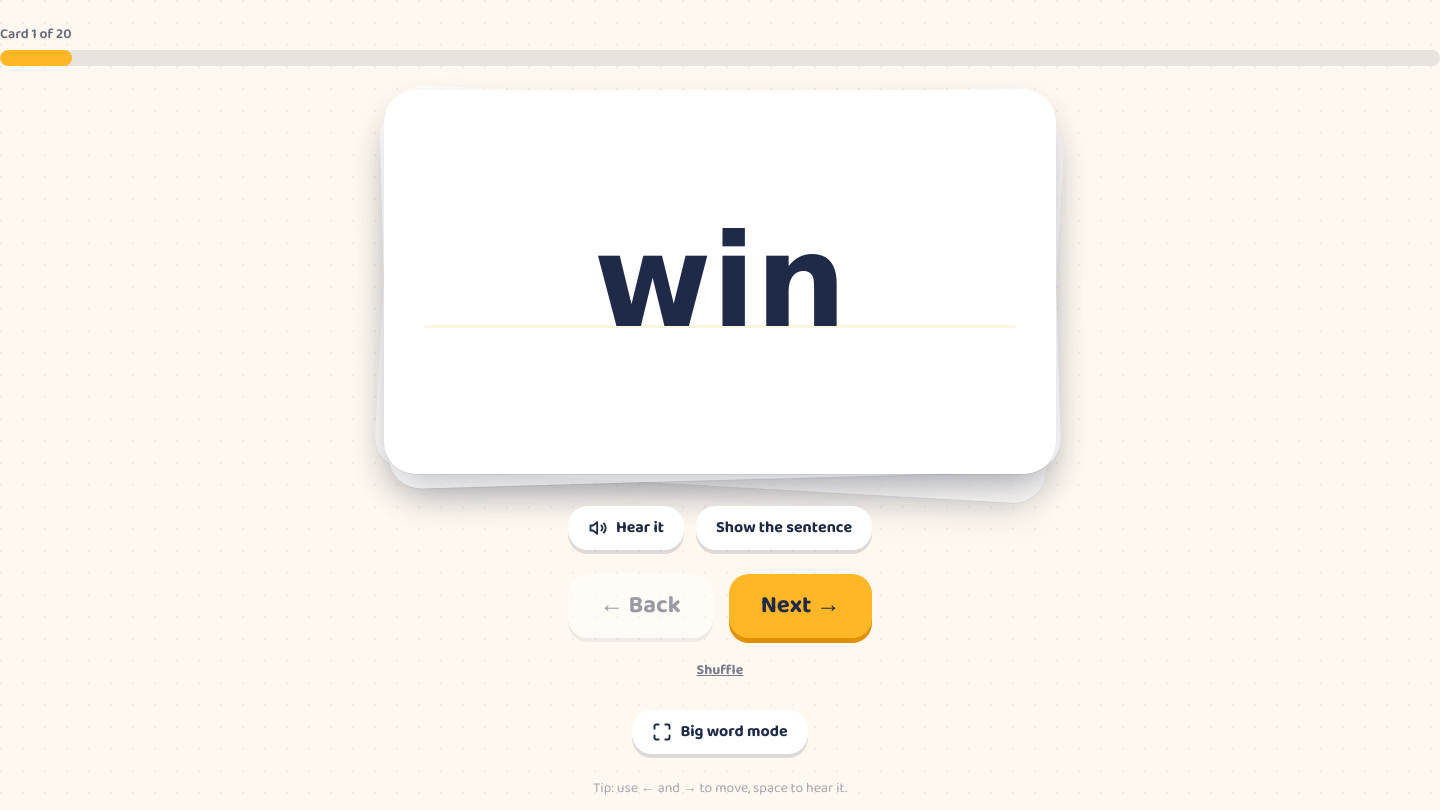
focus mode › goes back on a left-to-right swipe
Click the button "Big word mode" at (720, 732), box [632, 710, 808, 754]
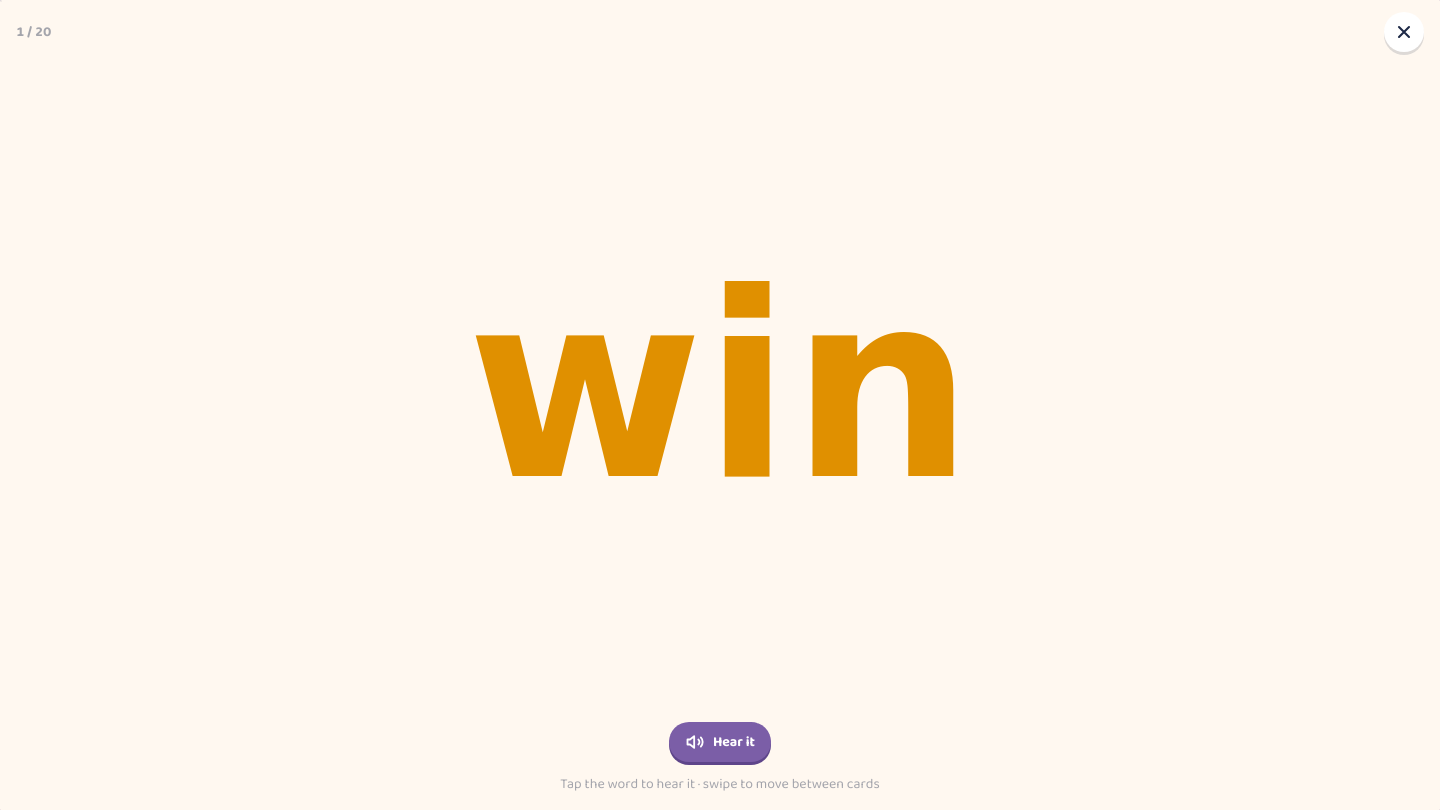
Press the mouse on the dialog at (720, 405), box [0, 0, 1439, 809]
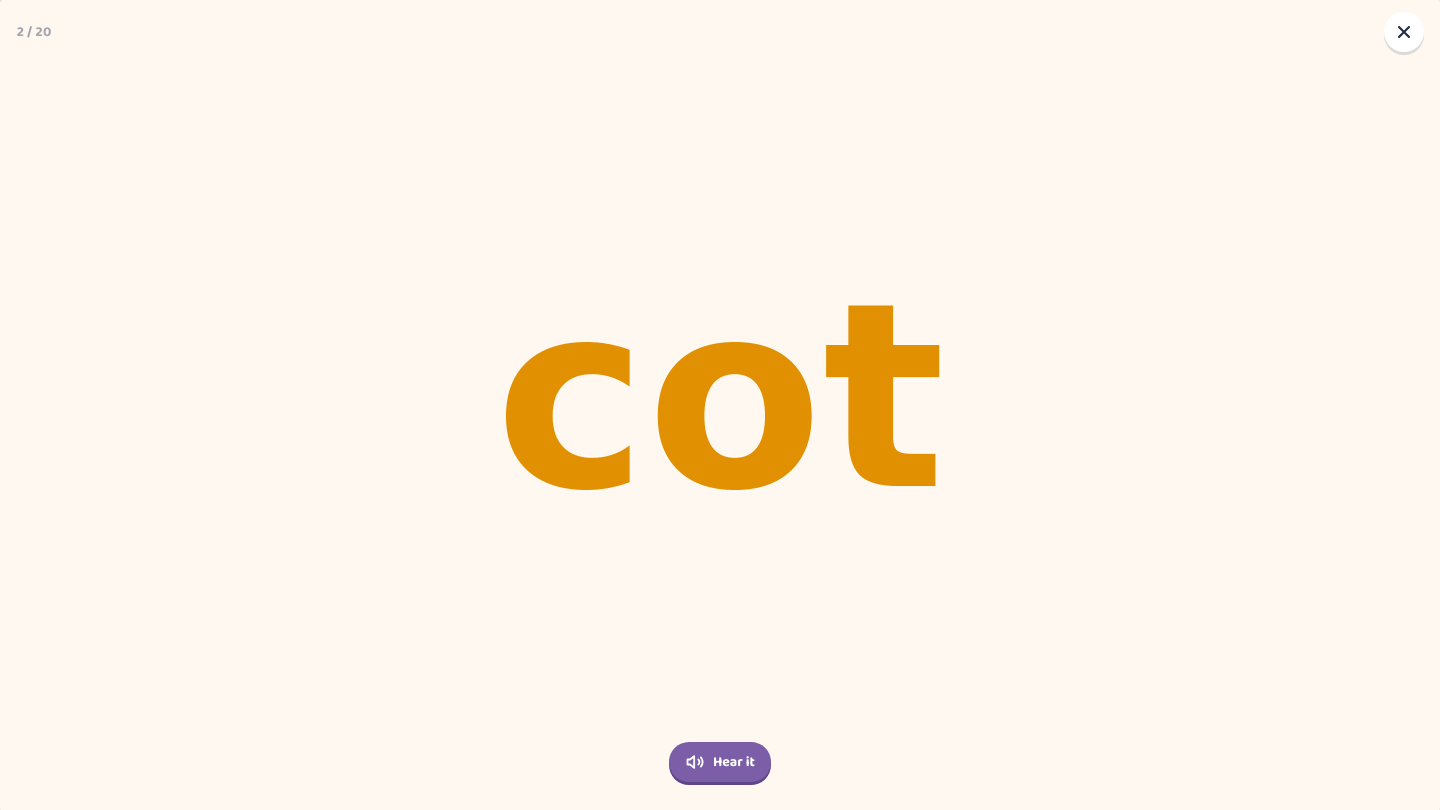
Press the mouse on the dialog at (720, 405), box [0, 0, 1439, 809]
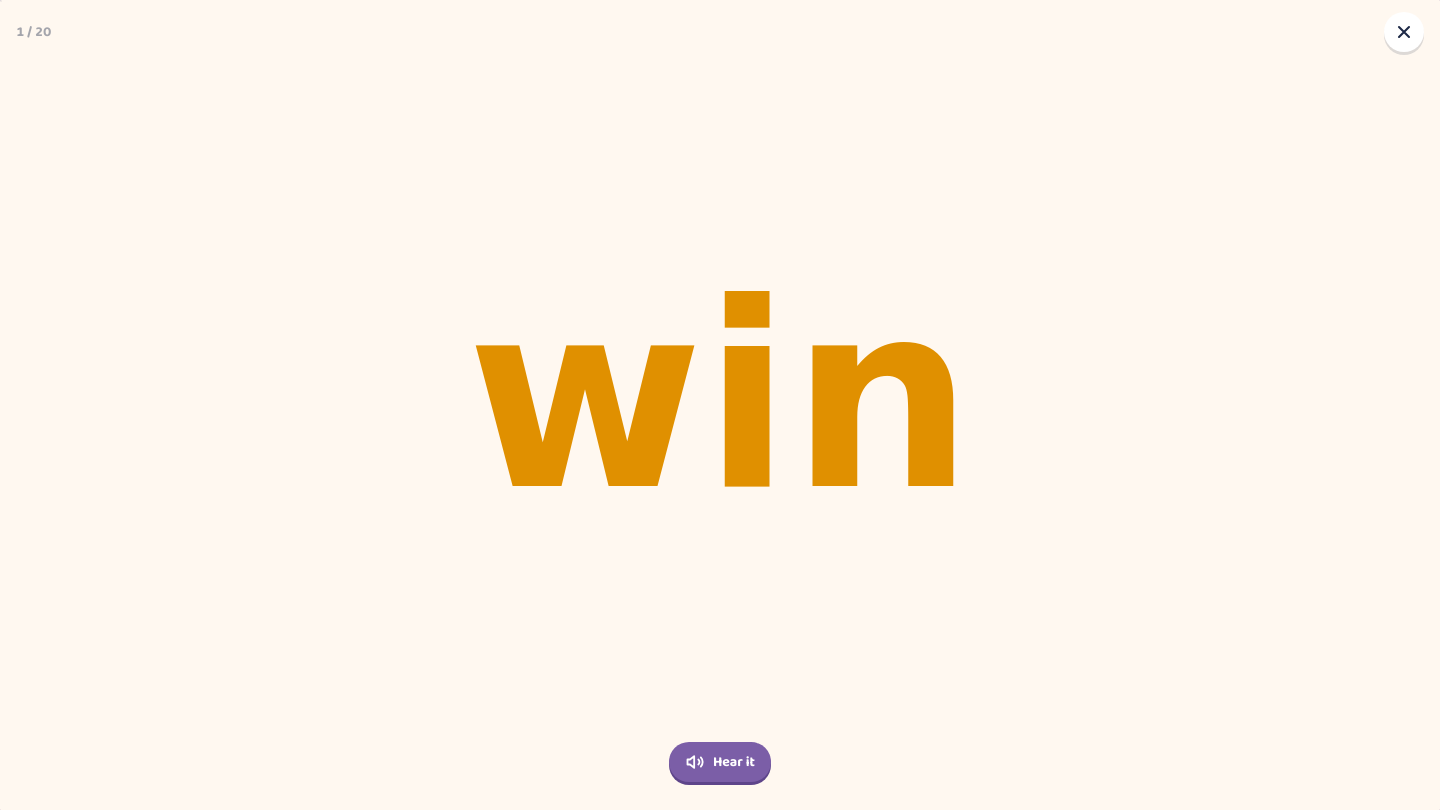
Expected: the 1st text "win" is shown, [593, 218, 847, 346]
